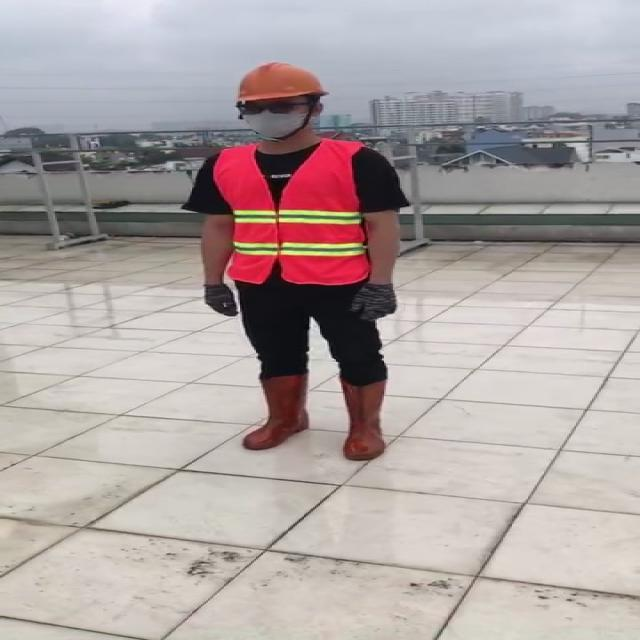Gloves: (343, 278, 409, 331), (196, 270, 240, 326)
Hard_hat: (232, 57, 337, 111)
Mask: (244, 114, 306, 138)
Person: (188, 52, 418, 470)
Safety_boots: (242, 412, 318, 458), (333, 420, 394, 464)
Vest: (212, 137, 367, 285)
